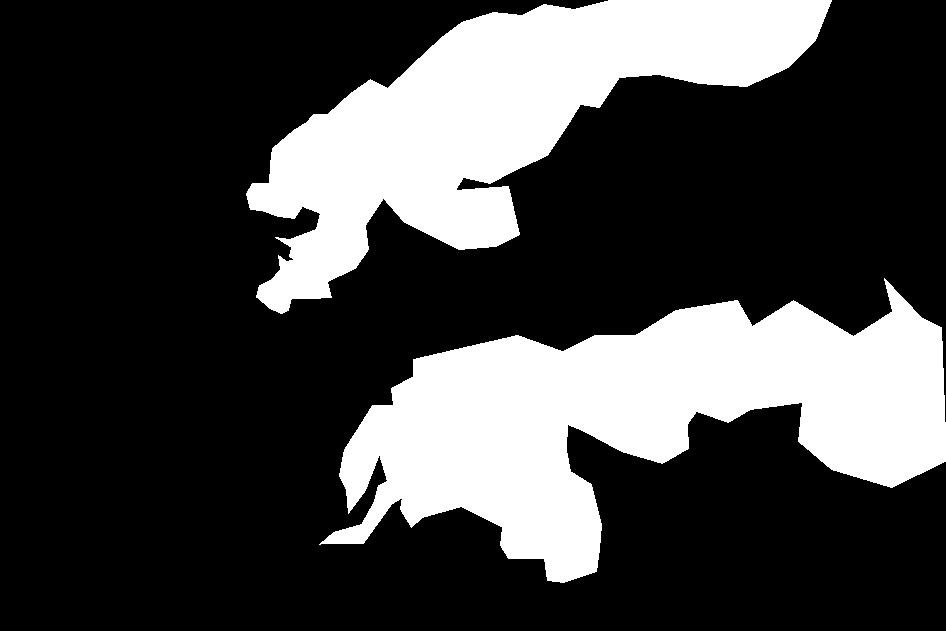Fire: (231, 102, 416, 311), (340, 348, 525, 532)
